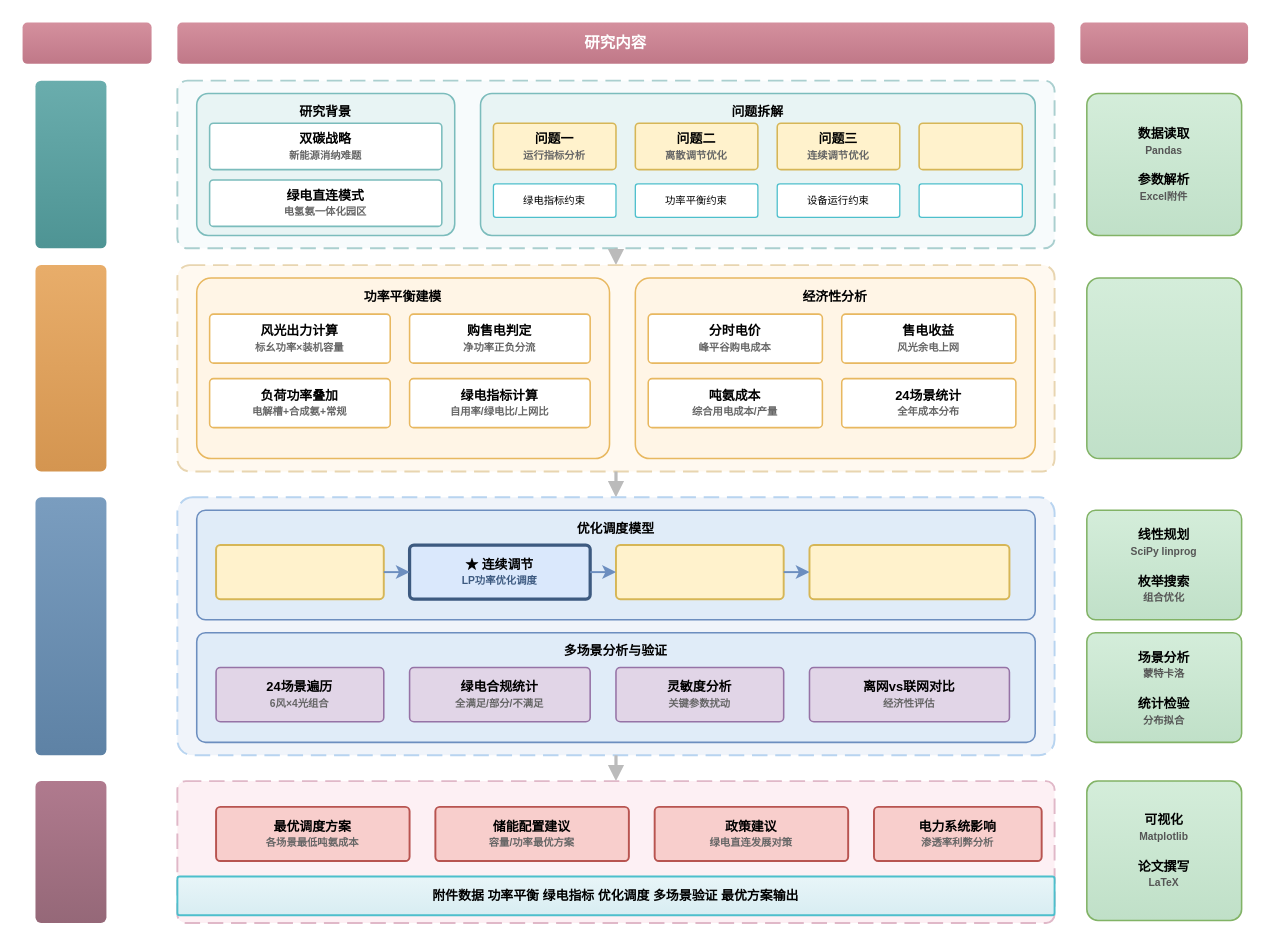
Image size: 1269x946. Some labels were removed from this diagram. Each missing label, with the centre of its shape:
"储能SOC约束" belongs at [970,200].
"储能配置 容量优化+SOC管理" belongs at [909,571].
"分 析 问 题" belongs at [70,367].
"功率平衡 逐时段计算 指标评估 合规性判定" belongs at [1163,368].
"提 出 问 题" belongs at [70,164].
"研 究 结 论" belongs at [70,851].
"研究方法" belongs at [1163,42].
"研究框架" belongs at [86,42].
"离散调节 开停机时段枚举" belongs at [299,571].
"离网运行 风光自给约束" belongs at [699,571].
"解 决 问 题" belongs at [70,626].
"问题四 离网储能配置" belongs at [970,146].
